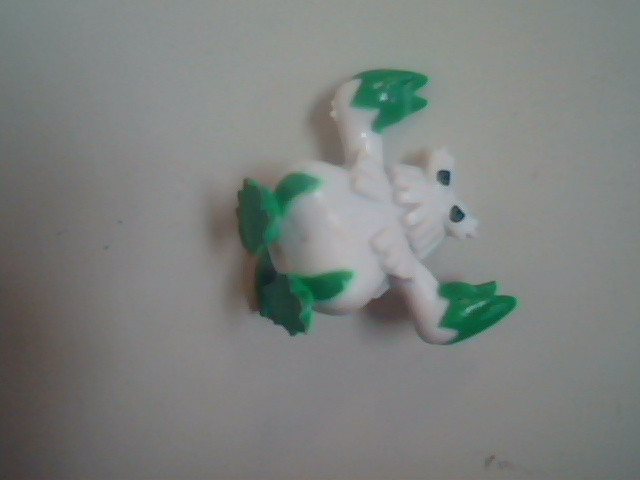abomasnow: (193, 37, 562, 375)
